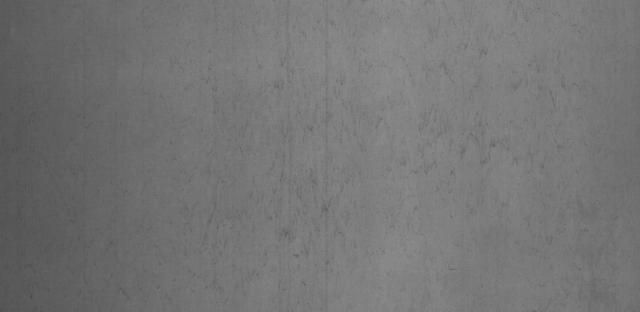silk_spot: (352, 8, 624, 193), (238, 7, 346, 267)
